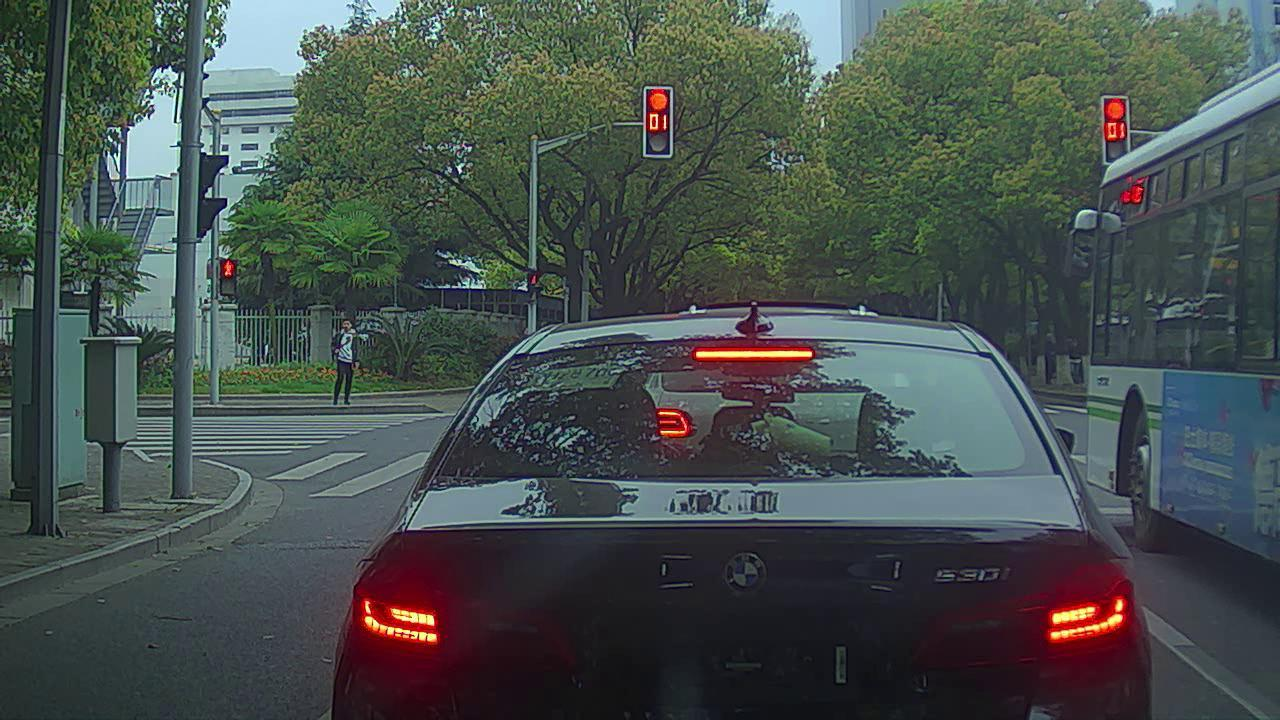traffic_light: (641, 81, 676, 161), (1100, 94, 1133, 162)
